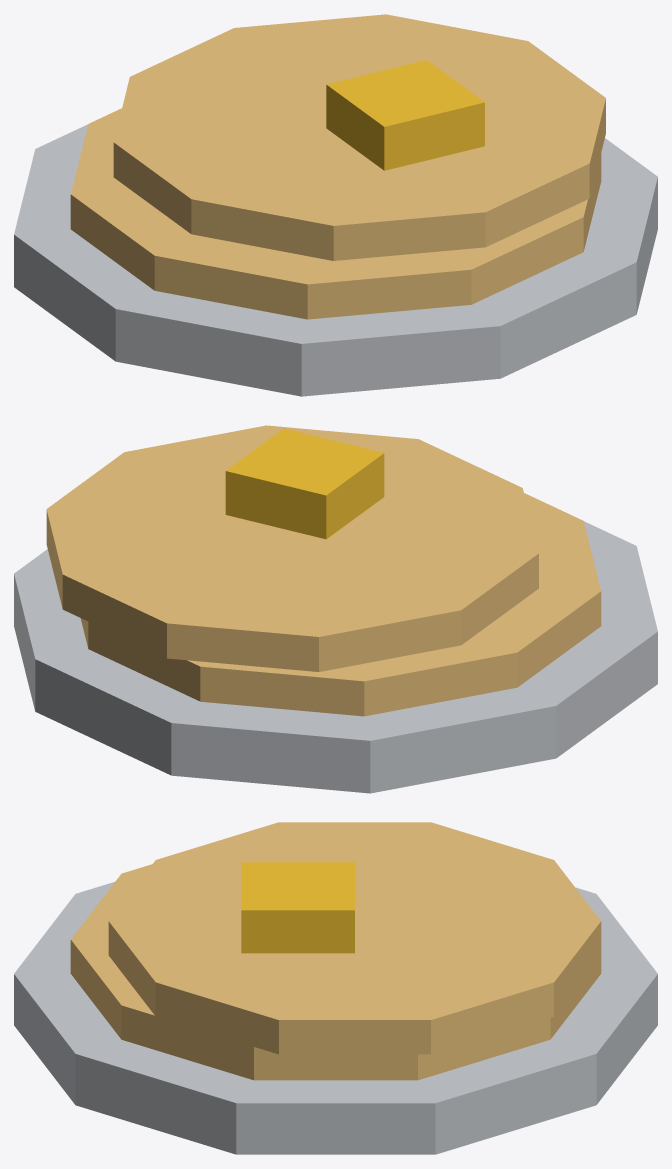
The model's file is icon_roti.glb.
The picture shows the model from 3 angles, top to bottom: view 1: azimuth 30°, elevation 25°; view 2: azimuth 150°, elevation 25°; view 3: azimuth 270°, elevation 25°; orthographic projection. The views are drawn at different scales.
Visible parts, largest first — view 1: icon_roti; view 2: icon_roti; view 3: icon_roti.
Boxes of the visible parts, x1,y1,x2,y2 form: icon_roti: (14, 14, 657, 396); icon_roti: (14, 425, 657, 793); icon_roti: (14, 822, 657, 1154).
Bounding box in the file's own units: 0.3234 × 0.095 × 0.34.
Materials: 1 (1 with a texture image).
